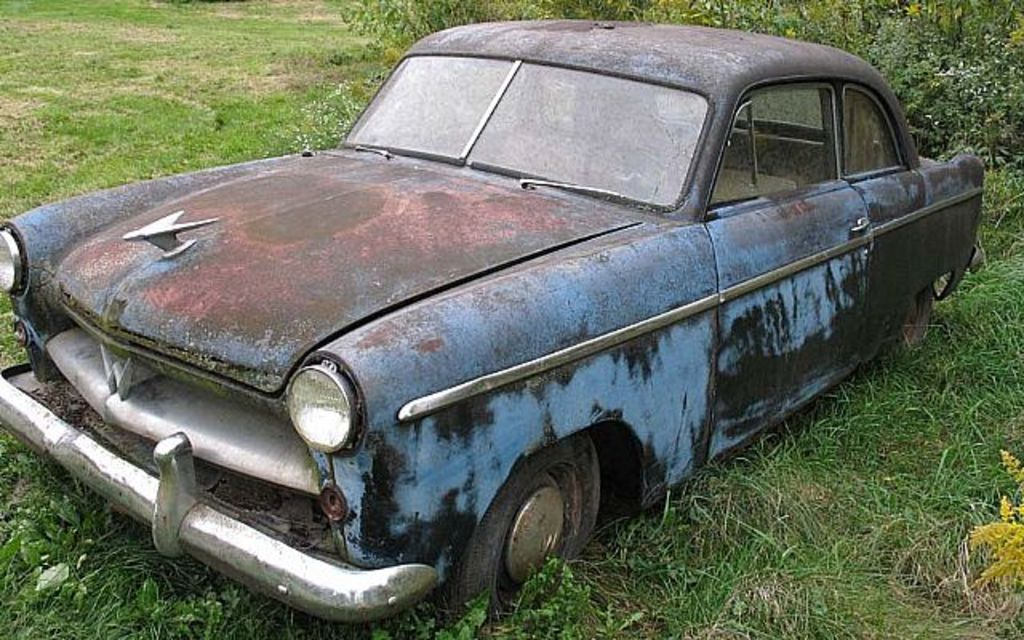Car: (0, 12, 982, 630)
